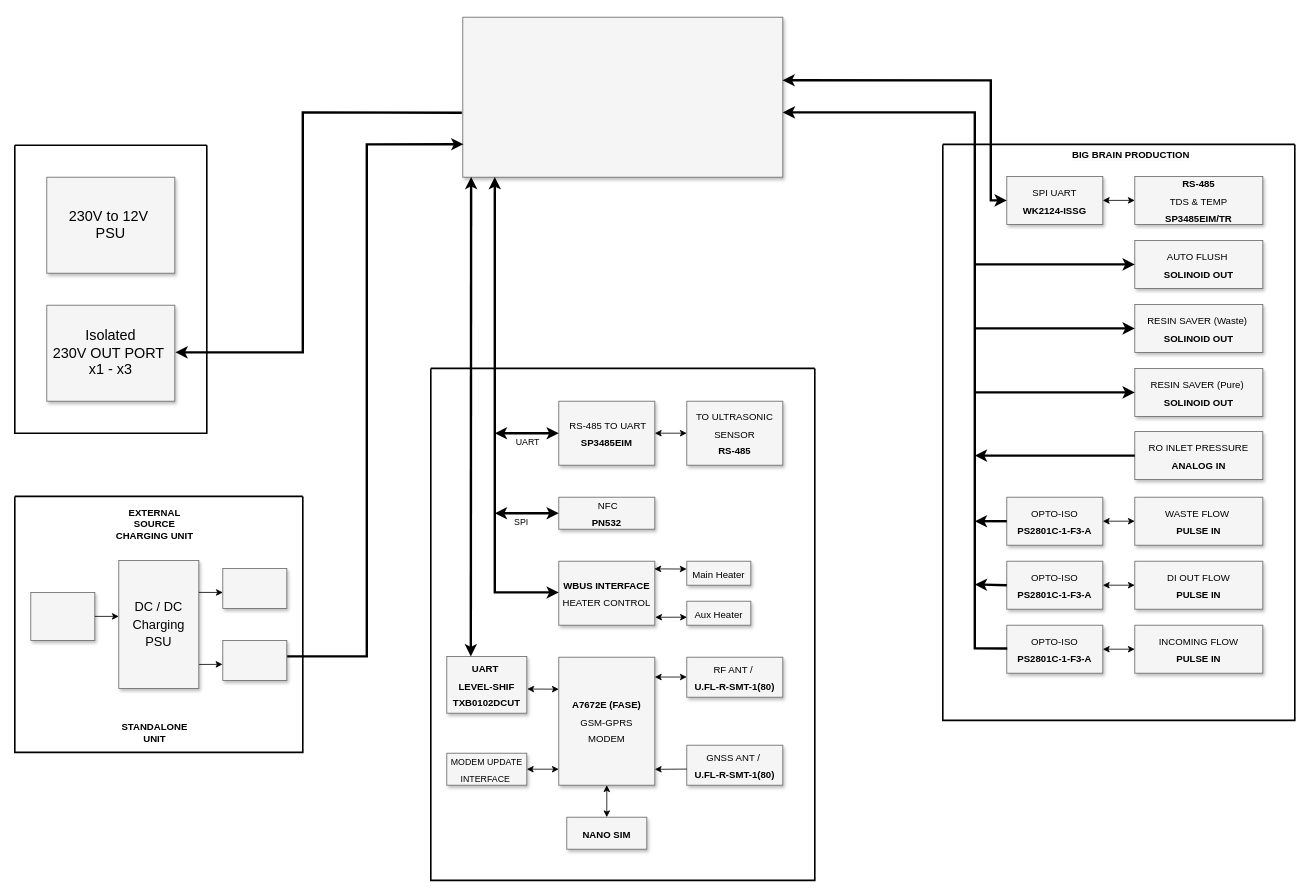
Image size: 1309x895. Some labels were removed from this diagram. Each missing label, with the centre of its shape:
12V Nomial Input: (x=63, y=617)
230V BIG MAINS: (x=110, y=289)
ALERT OUT (OPTIONAL): (x=255, y=661)
SMART CONNECT: (x=622, y=624)
TO MAIN BOARD: (x=623, y=98)
To System Battery: (x=255, y=589)
